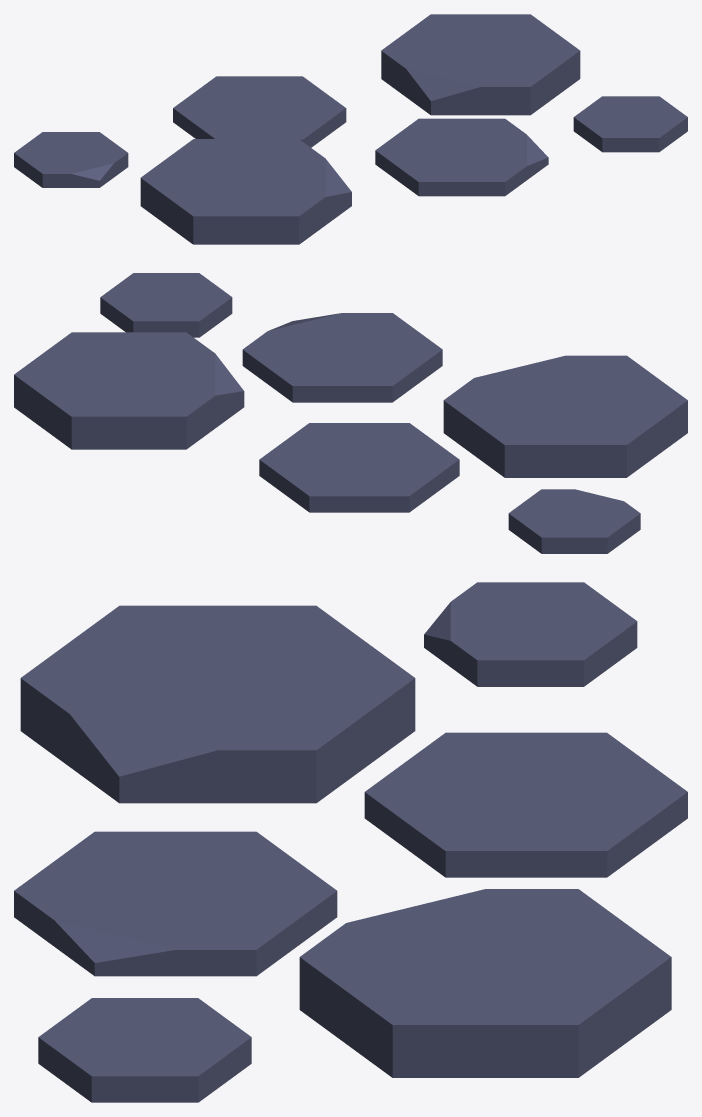
File: kenney_nature-kit__path_stone__cave.fbx
3 views of the same model, one above another, from view 1: azimuth 30°, elevation 25°; view 2: azimuth 150°, elevation 25°; view 3: azimuth 270°, elevation 25° (orthographic). The views are drawn at different scales.
Parts seen in each view (by area): view 1: kenney_nature-kit__path_stone__cave_stone_stone, kenney_nature-kit__path_stone__cave_stonedark_stone; view 2: kenney_nature-kit__path_stone__cave_stone_stone, kenney_nature-kit__path_stone__cave_stonedark_stone; view 3: kenney_nature-kit__path_stone__cave_stone_stone, kenney_nature-kit__path_stone__cave_stonedark_stone.
Part boxes in pixels (box(x1,y1,x2,y2)): kenney_nature-kit__path_stone__cave_stone_stone: box(14, 14, 687, 216); kenney_nature-kit__path_stone__cave_stonedark_stone: box(14, 51, 687, 244); kenney_nature-kit__path_stone__cave_stone_stone: box(14, 273, 687, 537); kenney_nature-kit__path_stone__cave_stonedark_stone: box(14, 297, 687, 553); kenney_nature-kit__path_stone__cave_stone_stone: box(14, 582, 687, 1076); kenney_nature-kit__path_stone__cave_stonedark_stone: box(14, 622, 687, 1102).
Bounding box in the file's own units: 3.57 × 0.1786 × 2.06.
Materials: 1 (1 with a texture image).
